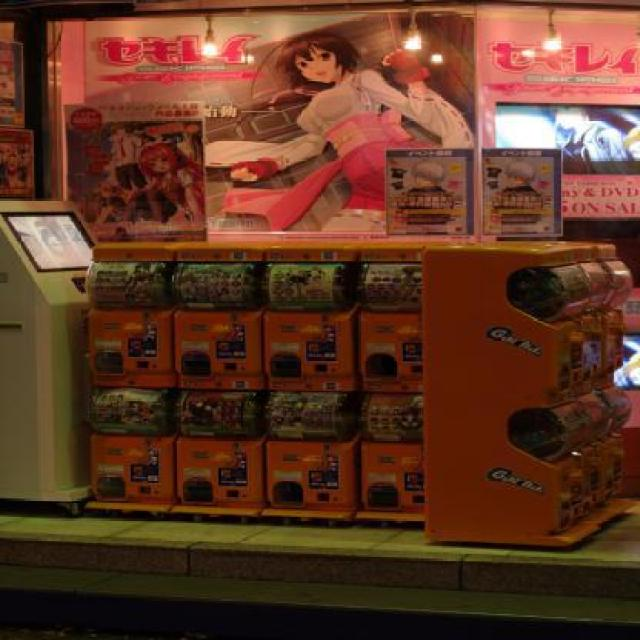Person: (203, 32, 475, 235), (143, 139, 211, 219), (109, 123, 158, 182)
